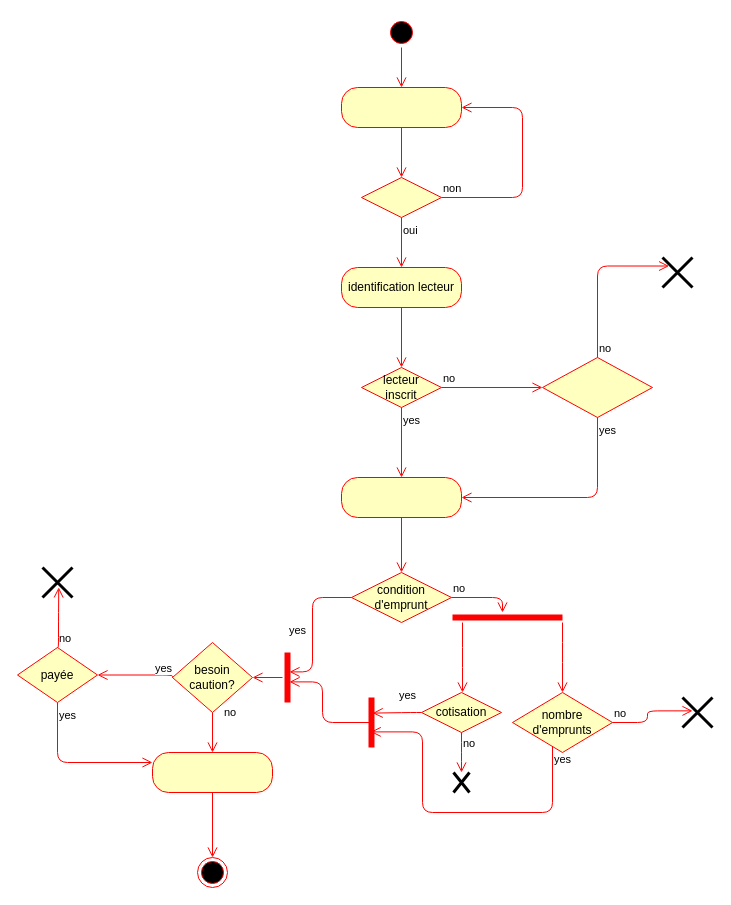
This 731x905 diagram has some shape labels left out. The centre of each missing label's shape, as x and y in pixels:
"gestion des emprunts" goes at point 401,497.
"génération fiche d'emprunt" goes at point 212,772.
"Identification employé" goes at point 401,107.
"procédure d'inscription" goes at point 597,387.
